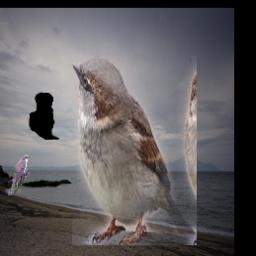Crow: (30, 93, 60, 141)
Cuckoo: (8, 154, 30, 195)
Sparrow: (72, 56, 197, 245)
